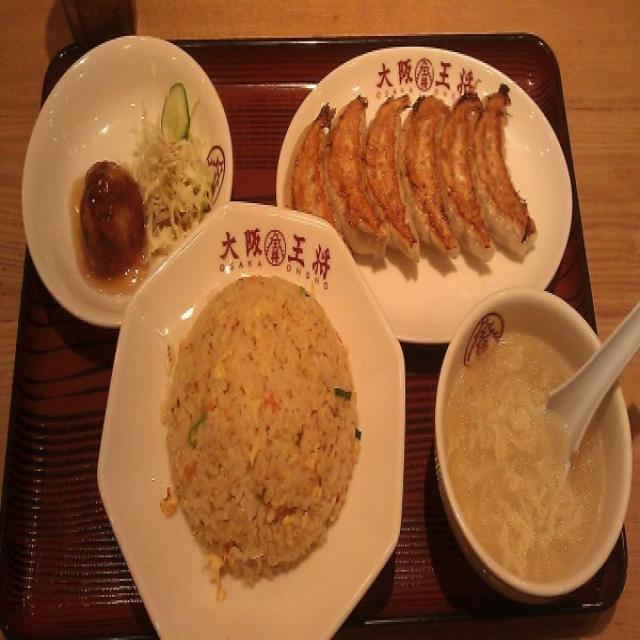Green Salad: (142, 68, 219, 257)
